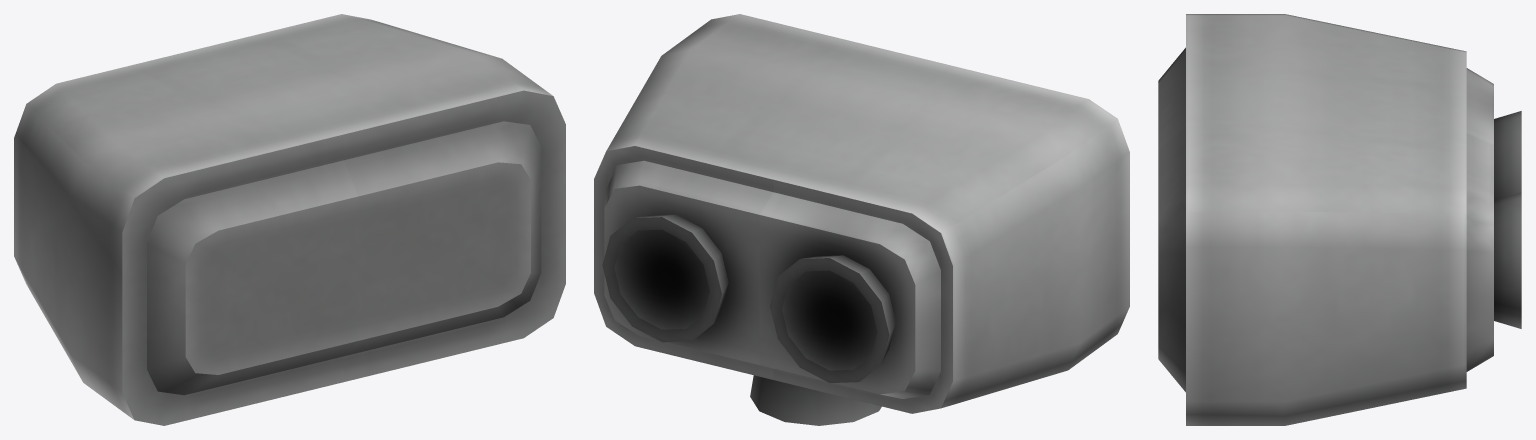
File: Tantares_MOE_4_E.obj
3 views of the same model, side by side, from view 1: azimuth 30°, elevation 25°; view 2: azimuth 150°, elevation 25°; view 3: azimuth 270°, elevation 25° (orthographic). The views are drawn at different scales.
Parts seen in each view (by area): view 1: Tantares_MOE_4_E; view 2: Tantares_MOE_4_E; view 3: Tantares_MOE_4_E.
Boxes of the visible parts, x1=… form: Tantares_MOE_4_E: x1=14, y1=14, x2=565, y2=425; Tantares_MOE_4_E: x1=594, y1=14, x2=1129, y2=425; Tantares_MOE_4_E: x1=1158, y1=14, x2=1521, y2=425.
Bounding box in the file's own units: 0.225 × 0.135 × 0.165.
